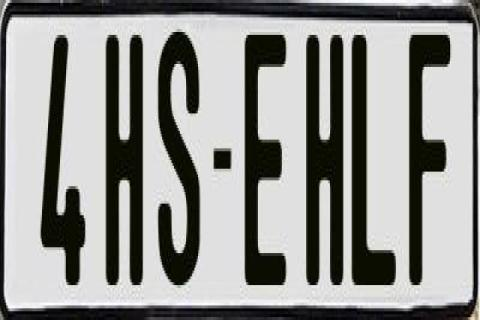0: (39, 35, 83, 288)
E: (243, 29, 287, 294)
F: (408, 29, 448, 282)
H: (106, 26, 148, 288), (304, 29, 344, 294)
L: (348, 35, 398, 297)
S: (158, 26, 200, 288)
